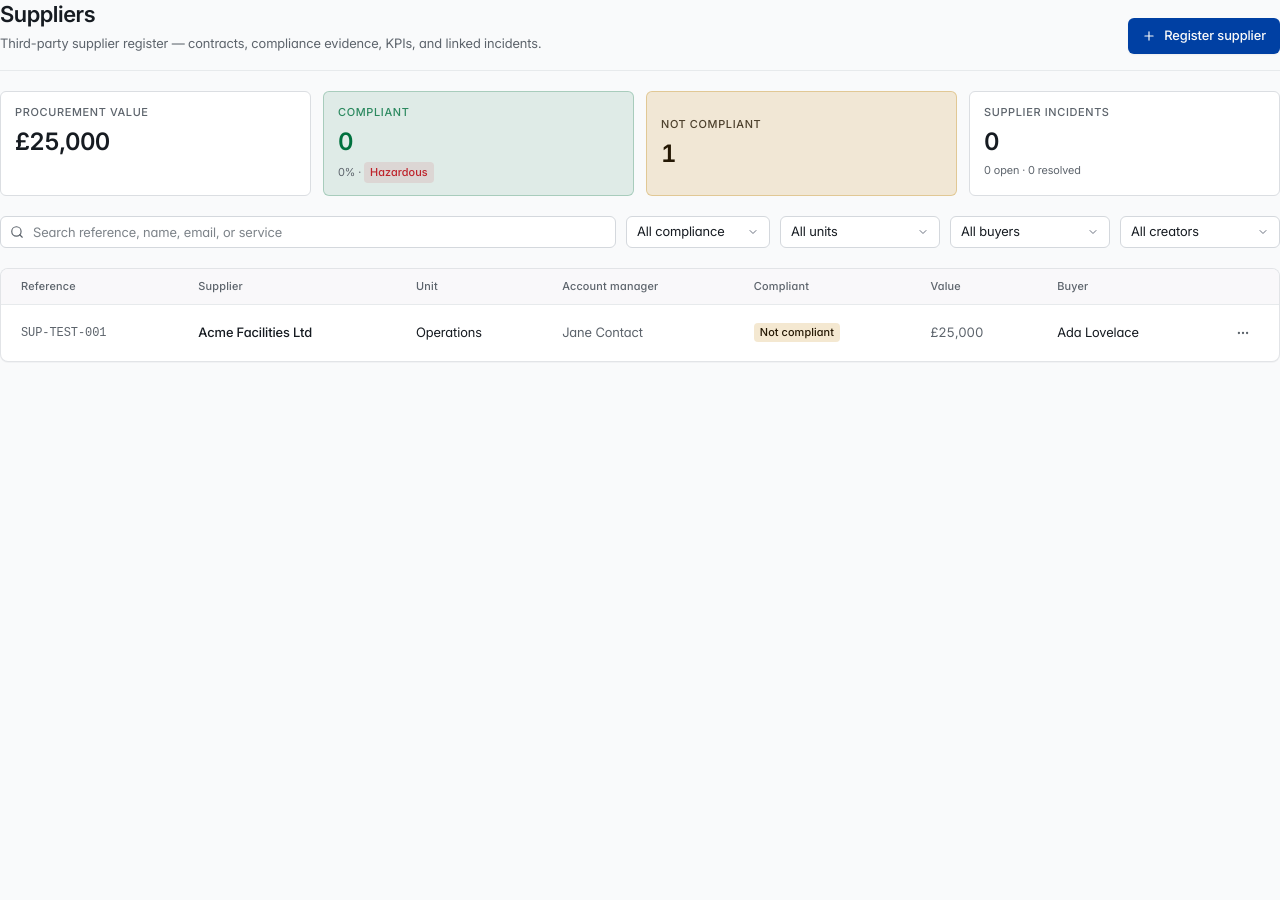
Scenario: SuppliersListPage › opens details with edit and delete actions
Expected: the text "Acme Facilities Ltd" is shown, [182,304,400,361]
Click the button named "actions for acme facilities ltd": click(1243, 333) [1227,317,1259,349]
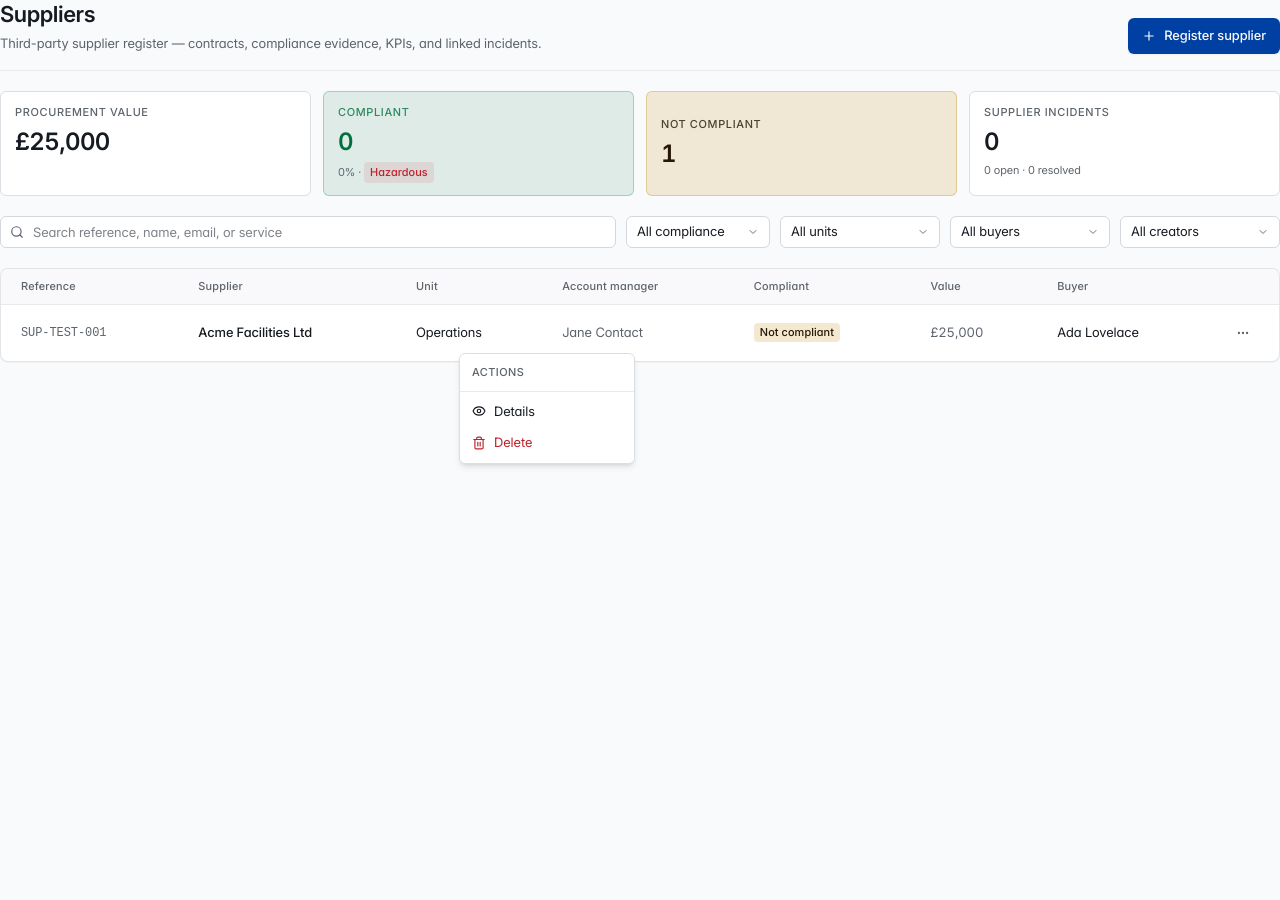
Click the menu item "Details": click(503, 410) [472,402,535,418]
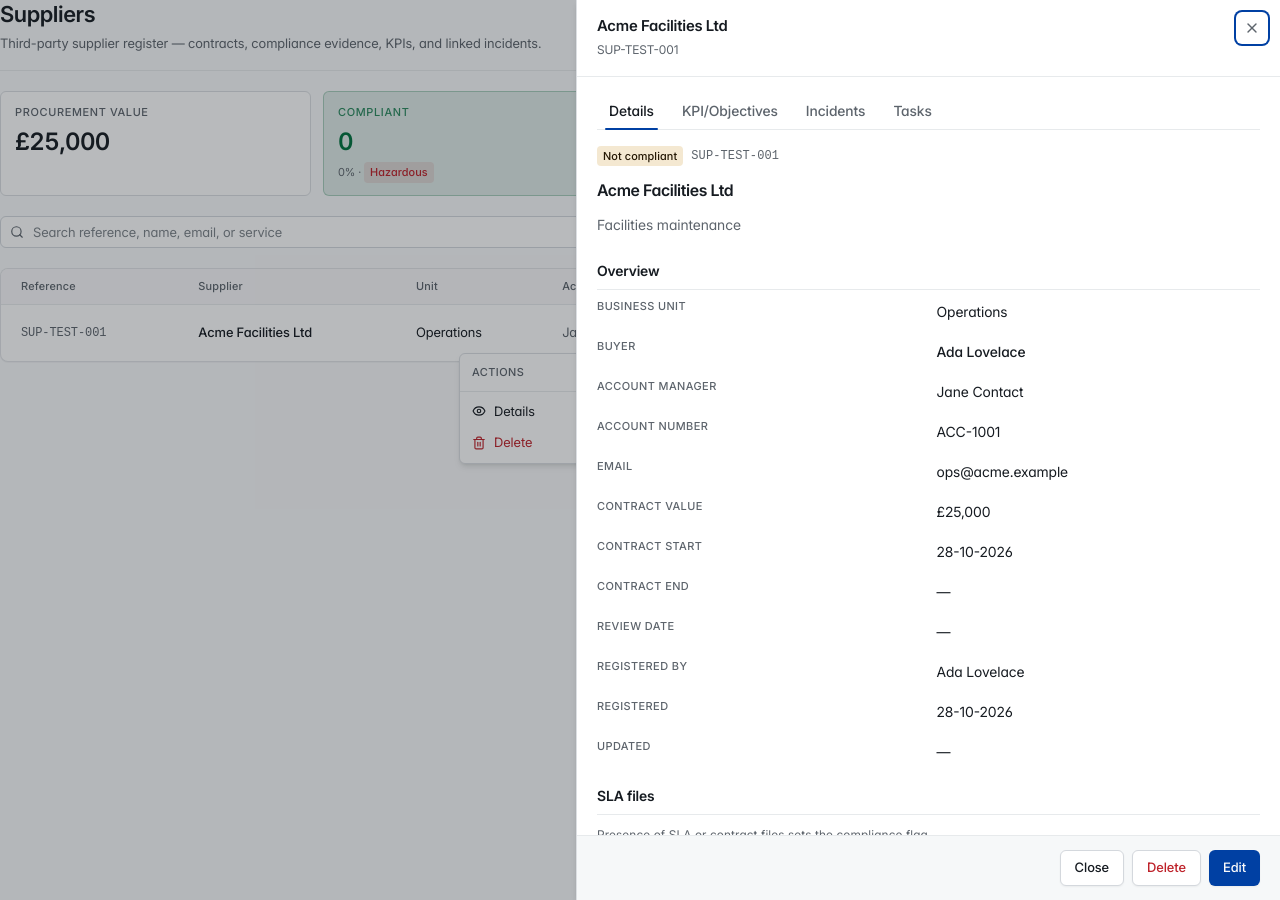
Now the button "Edit" is shown, box [1209,850,1260,886]
Now the button "Delete" is shown, box [1132,850,1201,886]
Now the tab "Details" is shown, box [597,93,666,129]
